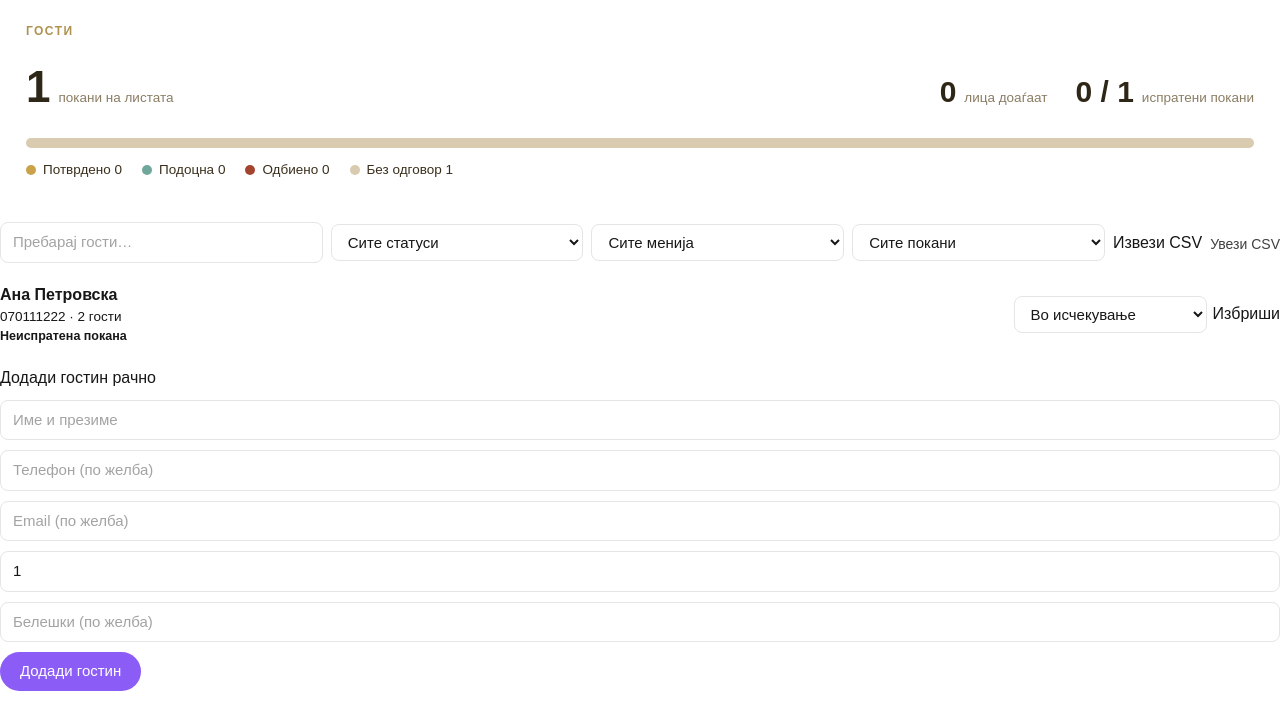
Test: GuestsClient without personal invite links in the package › offers no sending, and says why in the details
This screenshot has width=1280, height=720.
Step 1. Click the button with aria-label "Детали за Ана Петровска" → (59, 295), box [0,283,117,307]
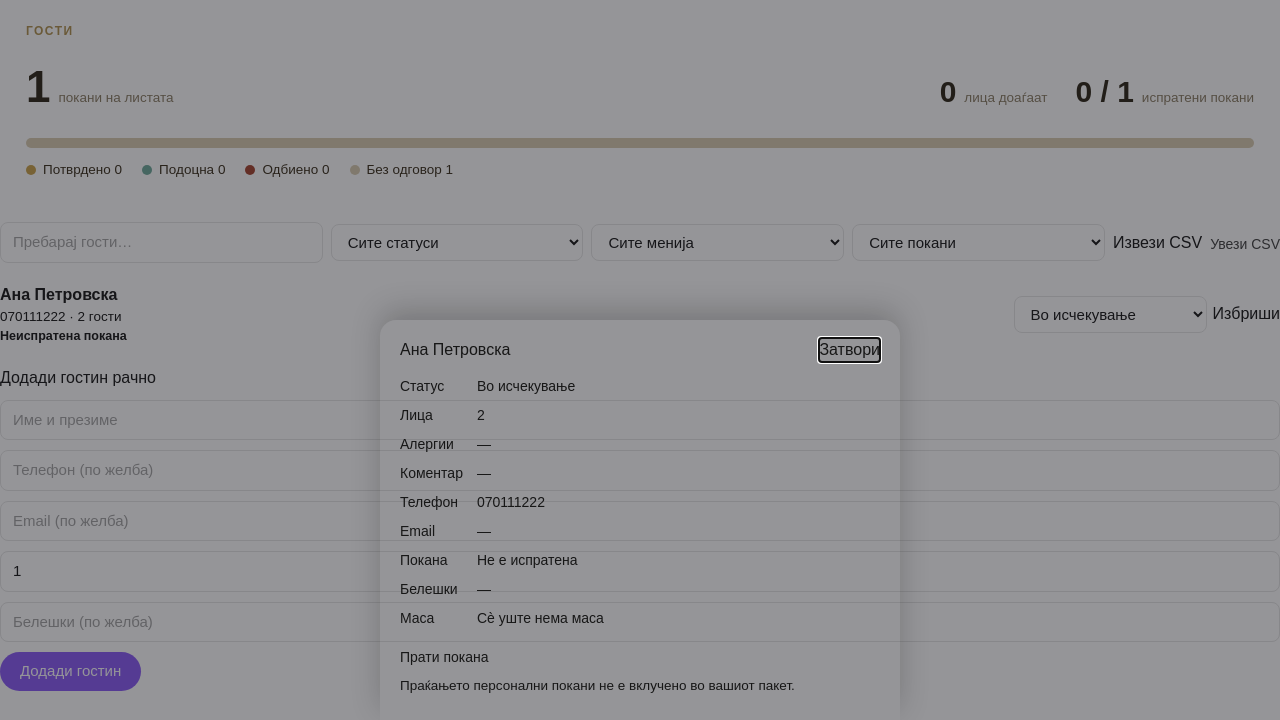
Check: the text "Праќањето персонални покани не е вклучено во вашиот пакет." is shown, box [400,678,795,693]
